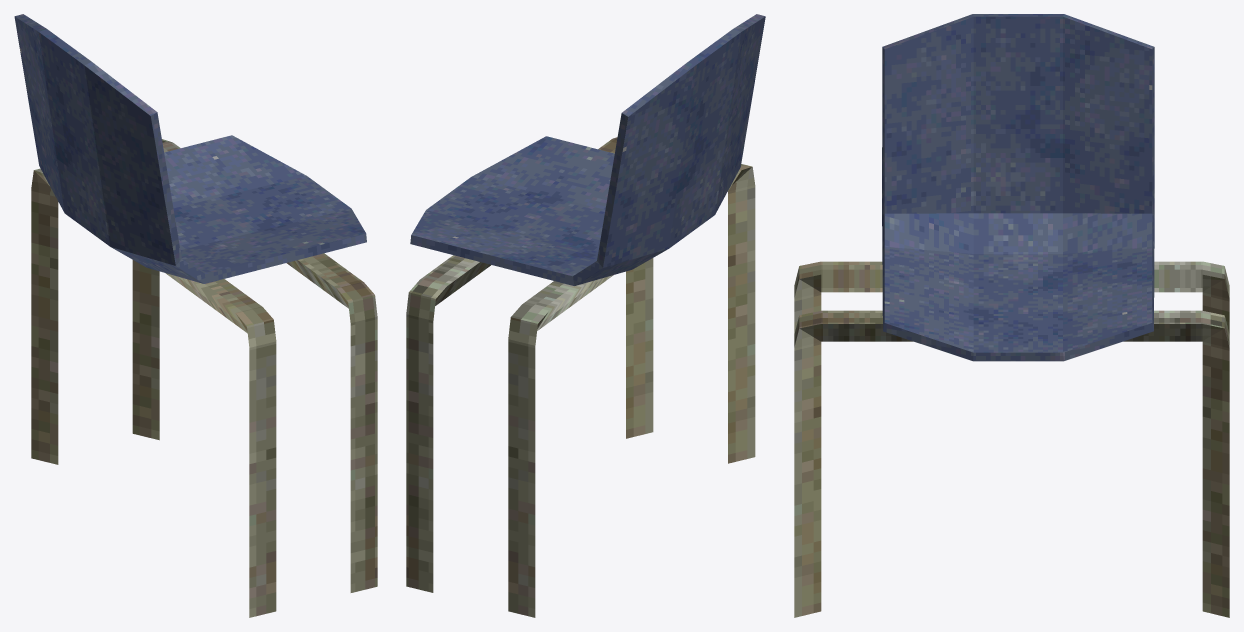
The model's file is busstop_single_seat_alt.glb.
3 renders of one model, left to right at view 1: azimuth 30°, elevation 25°; view 2: azimuth 150°, elevation 25°; view 3: azimuth 270°, elevation 25°, orthographic.
Visible parts, largest first — view 1: busstop_single_seat_alt; view 2: busstop_single_seat_alt; view 3: busstop_single_seat_alt.
Boxes of the visible parts, box(x1,y1,x2,y2) form: busstop_single_seat_alt: box(14, 14, 377, 617); busstop_single_seat_alt: box(406, 14, 765, 617); busstop_single_seat_alt: box(794, 14, 1229, 617).
Size of the model in its own units: 0.692 by 1.25 by 0.9766.
1 material, 1 textured.
